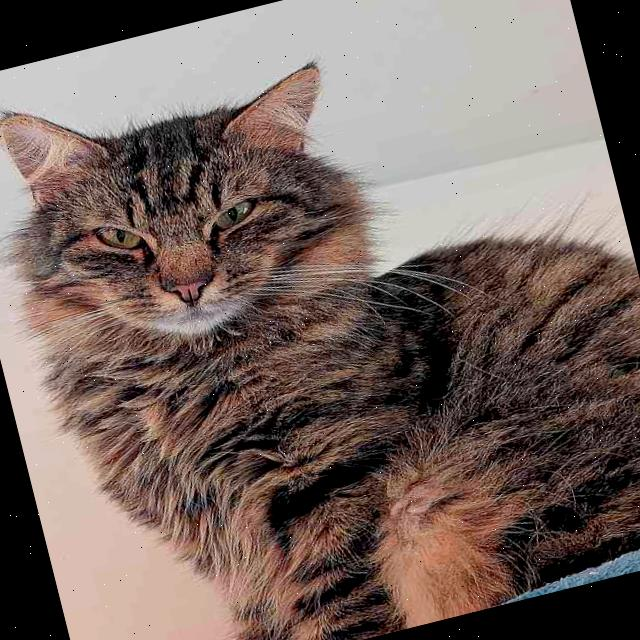domestic_long_hair_cat: (0, 18, 423, 415)
